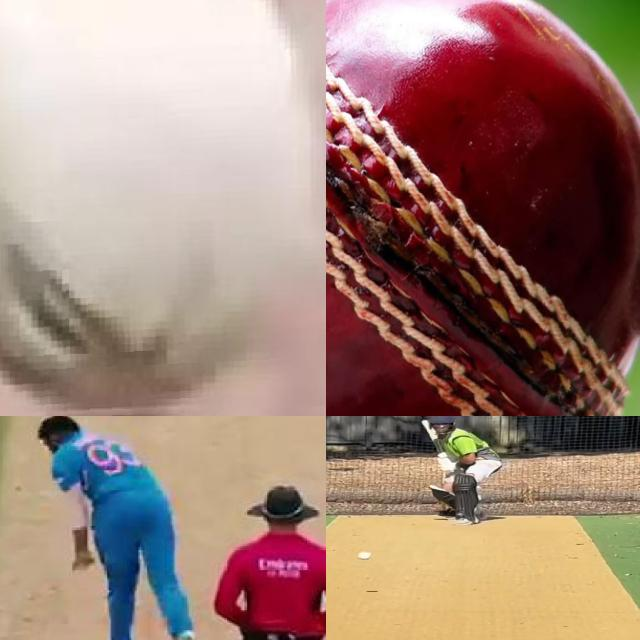Cricket ball: (0, 0, 326, 416), (326, 0, 640, 416), (358, 551, 373, 561)
